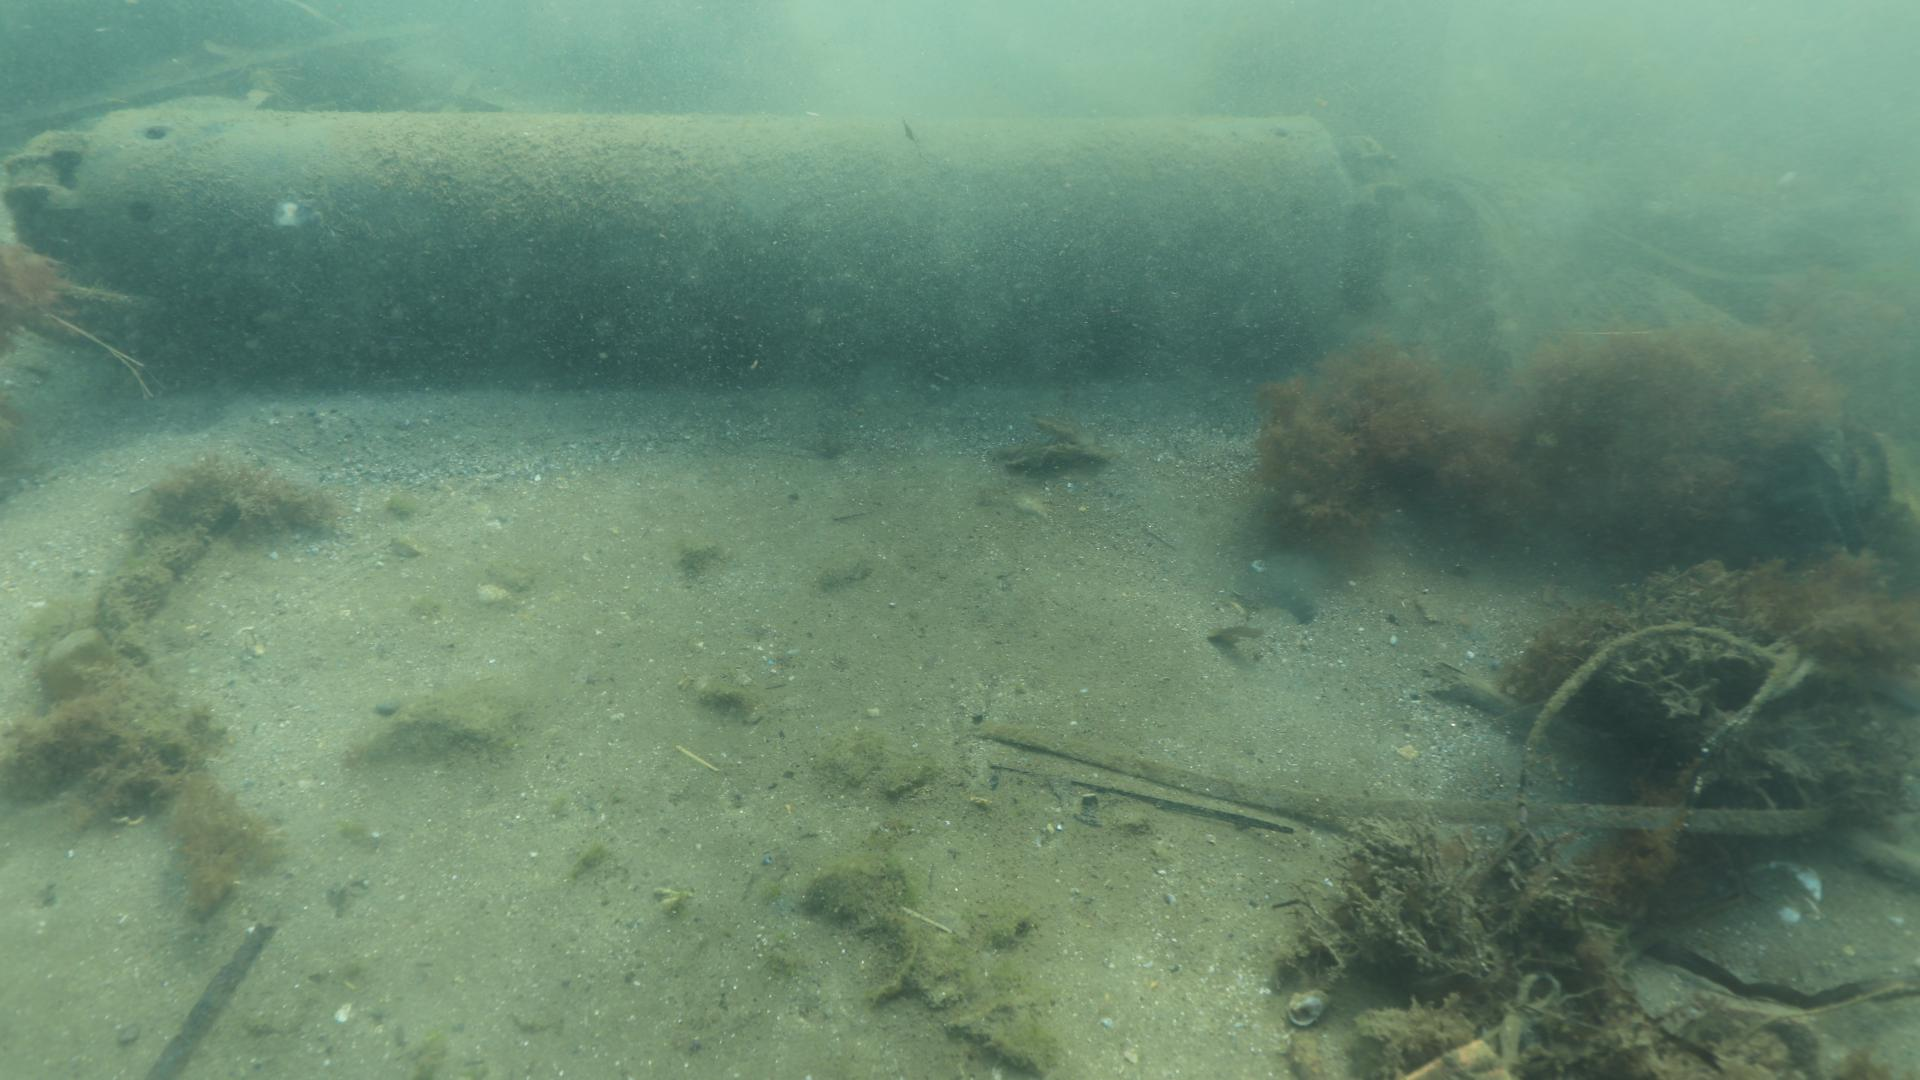eel fish trap: (0, 98, 1412, 380)
